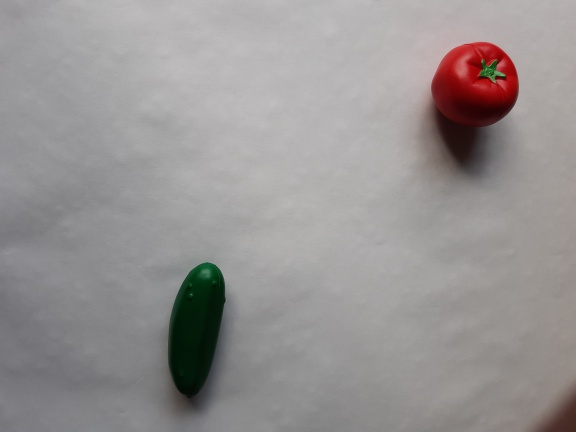cucumber: (158, 256, 236, 411)
tomato: (426, 38, 526, 134)
